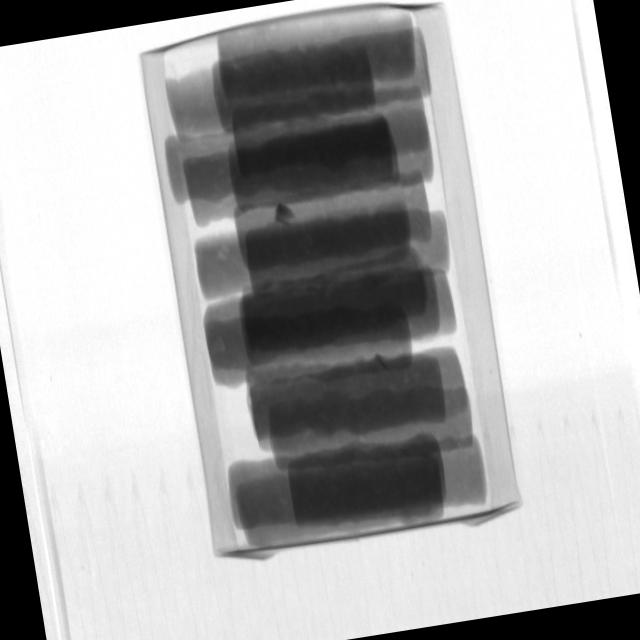ym: (273, 201, 296, 226), (376, 354, 392, 374)
